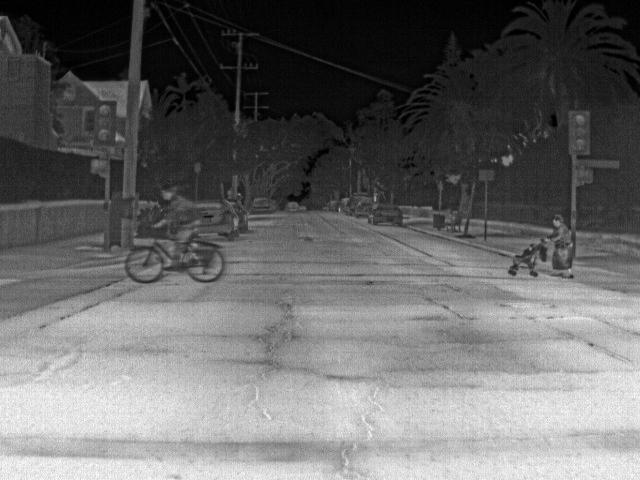car: (195, 197, 219, 236), (366, 204, 403, 227), (347, 191, 365, 216), (250, 196, 271, 215), (354, 200, 369, 218), (283, 199, 299, 213), (336, 196, 348, 213), (325, 199, 337, 212), (271, 200, 280, 212), (299, 203, 309, 211)
person: (158, 183, 194, 272), (550, 213, 571, 279), (219, 196, 237, 240), (234, 192, 249, 234), (522, 243, 535, 260), (447, 207, 459, 225)
